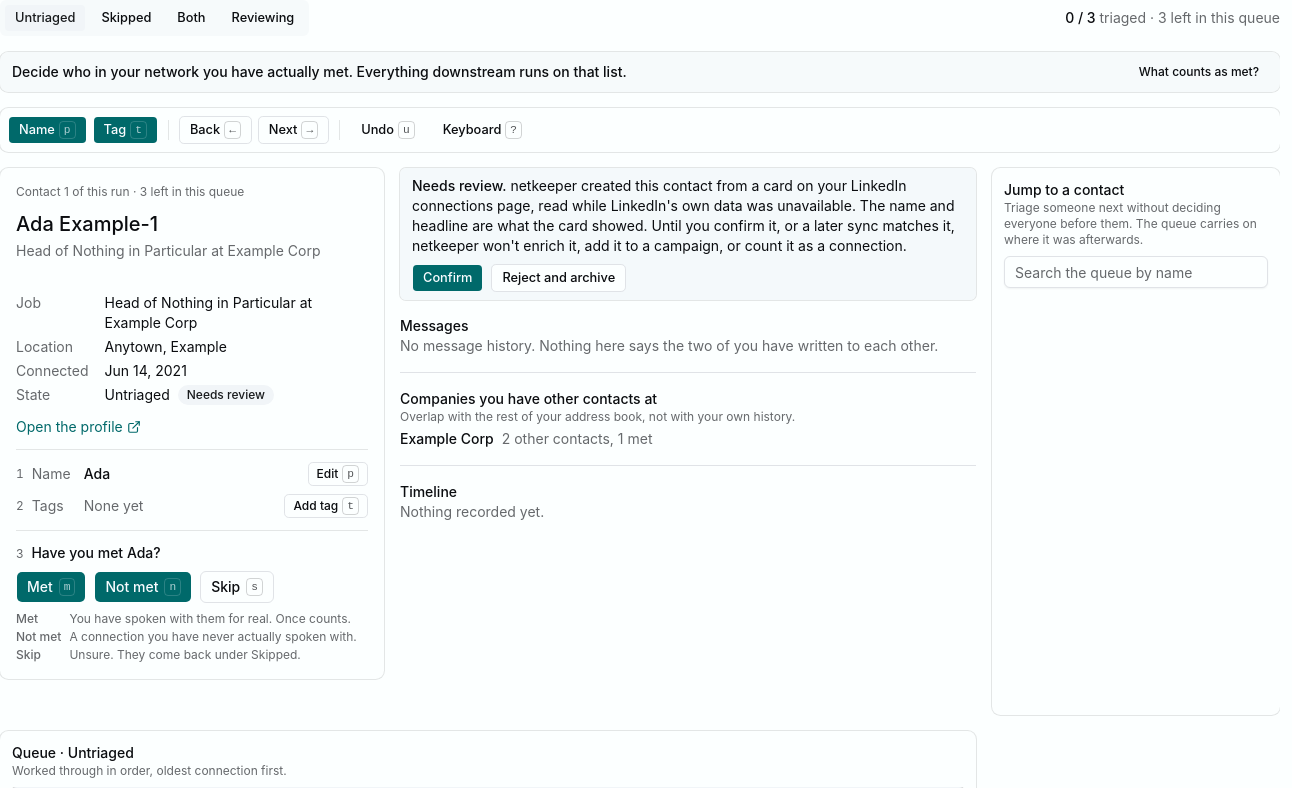
Test case: a contact read off a connections-page card › says so when the write fails, and changes nothing on the card
Click the button with test id "needs-review-confirm": (448, 278) top-left (412, 264), bottom-right (483, 292)
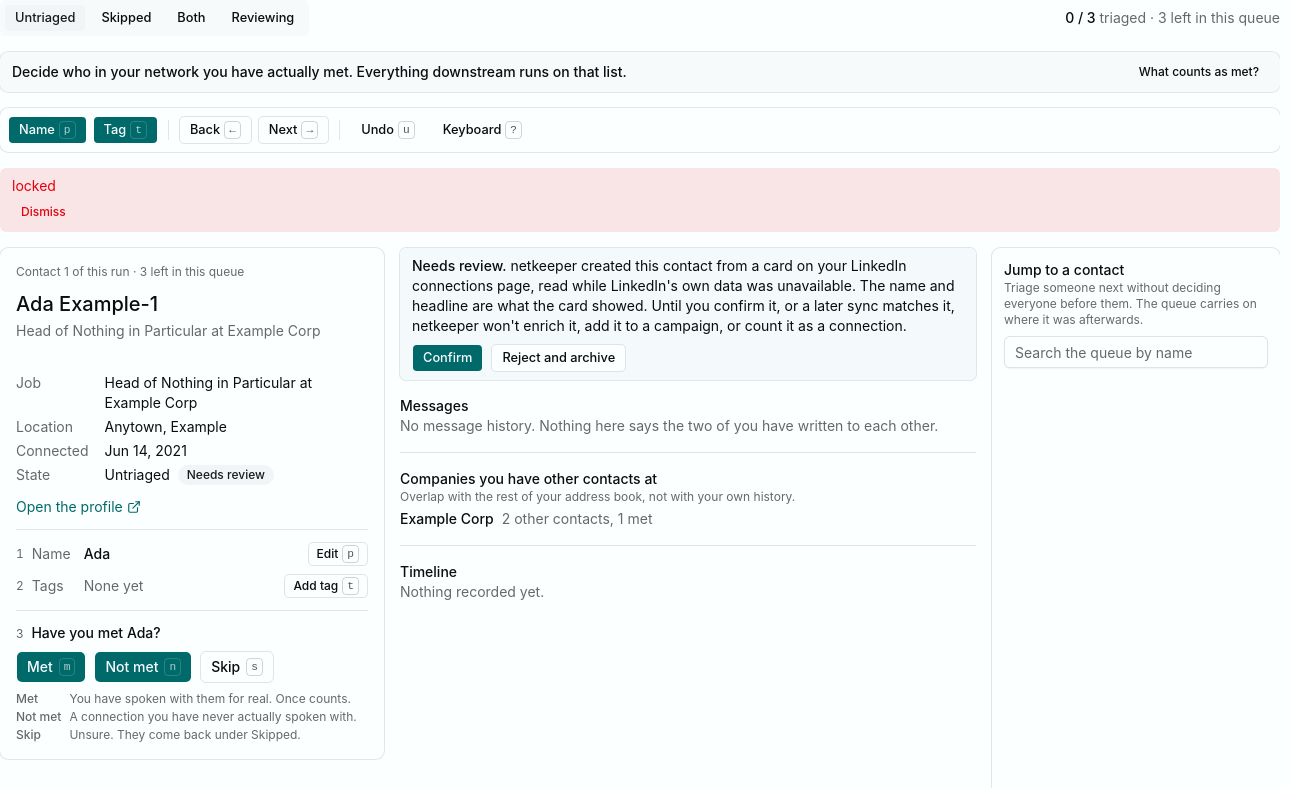
Check: the element "Needs review" is shown, box top-left (400, 248), bottom-right (976, 380)
Check: the message shows "locked", box top-left (12, 177), bottom-right (56, 194)
